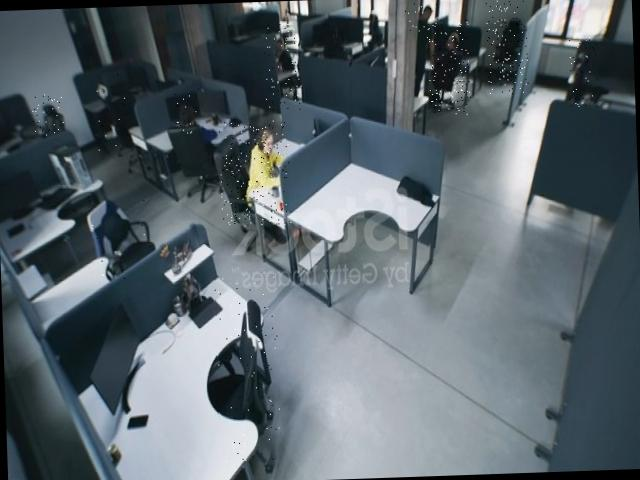empty chair: (214, 274, 282, 462), (89, 188, 153, 284), (486, 0, 528, 95), (96, 66, 134, 154), (564, 32, 600, 110), (32, 92, 64, 138)
occupiedchair: (218, 120, 292, 228), (426, 20, 472, 116), (264, 24, 302, 110)
